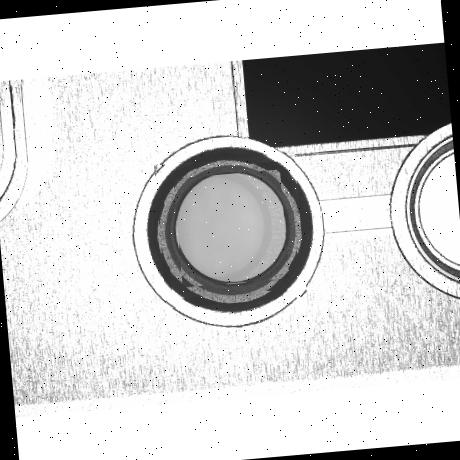Hole: (140, 140, 320, 318)
Hole2: (153, 154, 307, 308)
Hole3: (162, 161, 300, 300)
Hole4: (172, 170, 290, 288)
